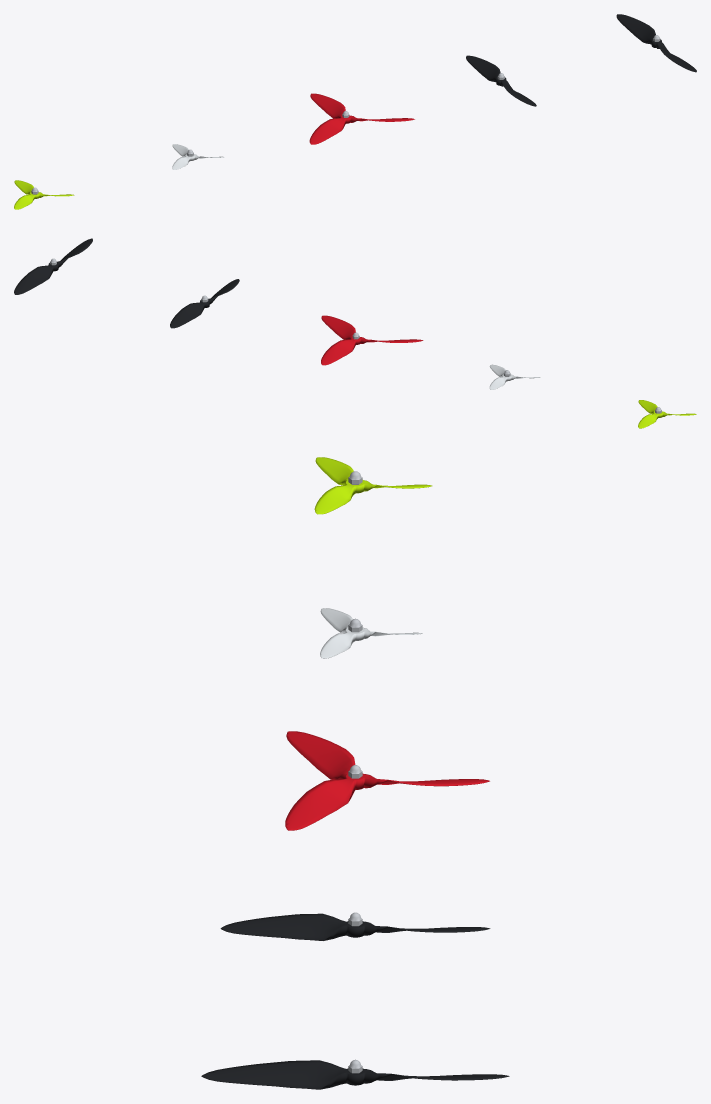
The model's file is Propellers_Set_3.fbx.
3 views of the same model, one above another, from view 1: azimuth 30°, elevation 25°; view 2: azimuth 150°, elevation 25°; view 3: azimuth 270°, elevation 25° (orthographic). The views are drawn at different scales.
Parts seen in each view (by area): view 1: R3_PROP_DALPROP_T7035, R3_PROP_HQProp_8045, R3_PROP_Gemfan_7040, R3_PROP_Gemfan_4024, R3_PROP_HQProp_35x28x3; view 2: R3_PROP_DALPROP_T7035, R3_PROP_HQProp_8045, R3_PROP_Gemfan_7040, R3_PROP_Gemfan_4024, R3_PROP_HQProp_35x28x3; view 3: R3_PROP_DALPROP_T7035, R3_PROP_HQProp_8045, R3_PROP_Gemfan_7040, R3_PROP_Gemfan_4024, R3_PROP_HQProp_35x28x3.
Part boxes in pixels (box(x1,y1,x2,y2)): R3_PROP_DALPROP_T7035: box(309, 93, 414, 144); R3_PROP_HQProp_8045: box(616, 14, 696, 72); R3_PROP_Gemfan_7040: box(466, 55, 536, 106); R3_PROP_Gemfan_4024: box(14, 180, 74, 209); R3_PROP_HQProp_35x28x3: box(172, 144, 224, 169); R3_PROP_DALPROP_T7035: box(321, 315, 423, 365); R3_PROP_HQProp_8045: box(14, 238, 92, 294); R3_PROP_Gemfan_7040: box(170, 279, 239, 328); R3_PROP_Gemfan_4024: box(638, 400, 696, 428); R3_PROP_HQProp_35x28x3: box(489, 364, 540, 389); R3_PROP_DALPROP_T7035: box(285, 731, 489, 830); R3_PROP_HQProp_8045: box(201, 1060, 509, 1089); R3_PROP_Gemfan_7040: box(220, 913, 490, 940); R3_PROP_Gemfan_4024: box(314, 457, 432, 514); R3_PROP_HQProp_35x28x3: box(320, 608, 422, 658).
Bounding box in the file's own units: 0.9777 × 0.0183 × 0.2032.
